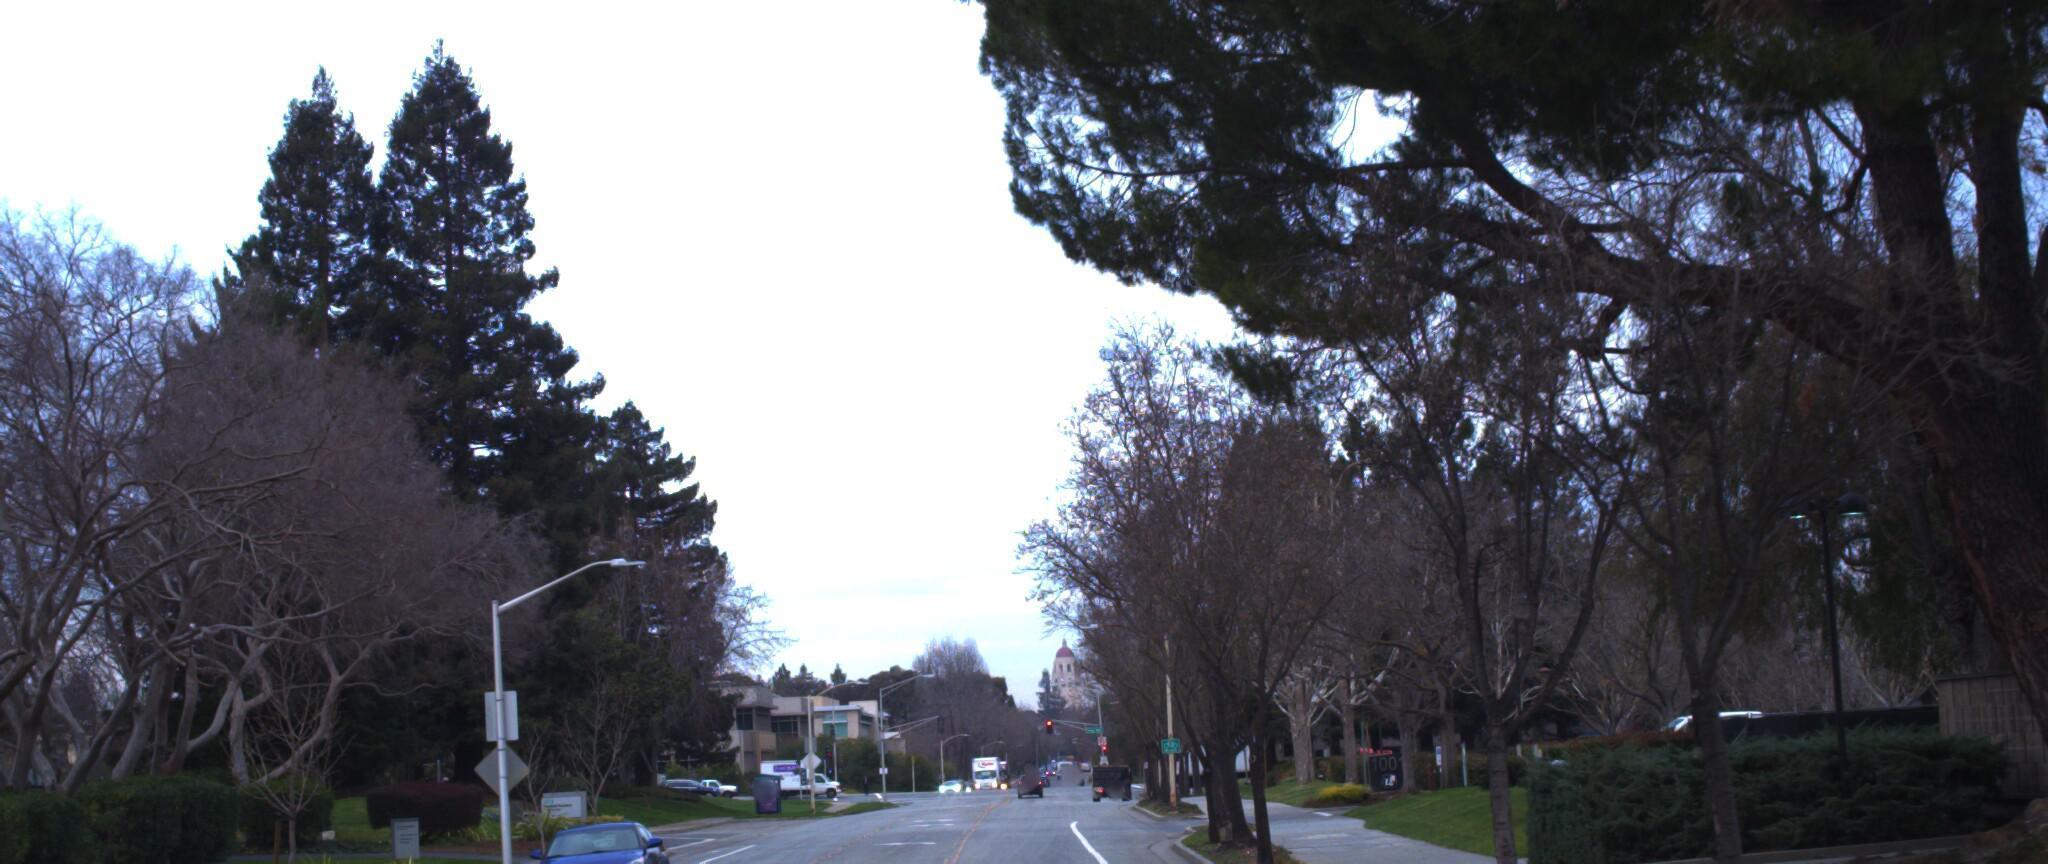car: (503, 801, 671, 864)
